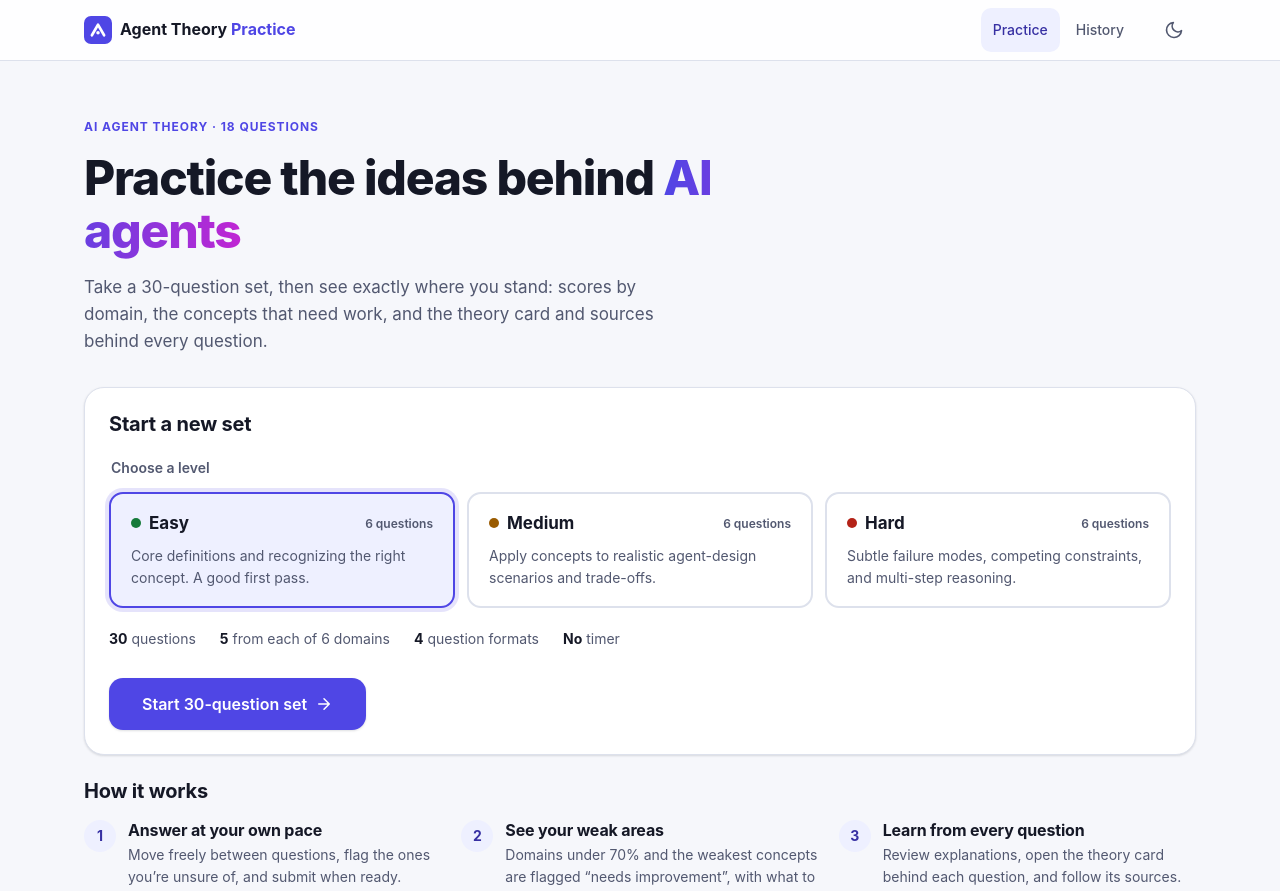
Test: HomePage › toggles and persists the theme
The width and height of the screenshot is (1280, 891).
Click the button named "switch to dark theme" at (1174, 30), box [1152,8,1196,52]
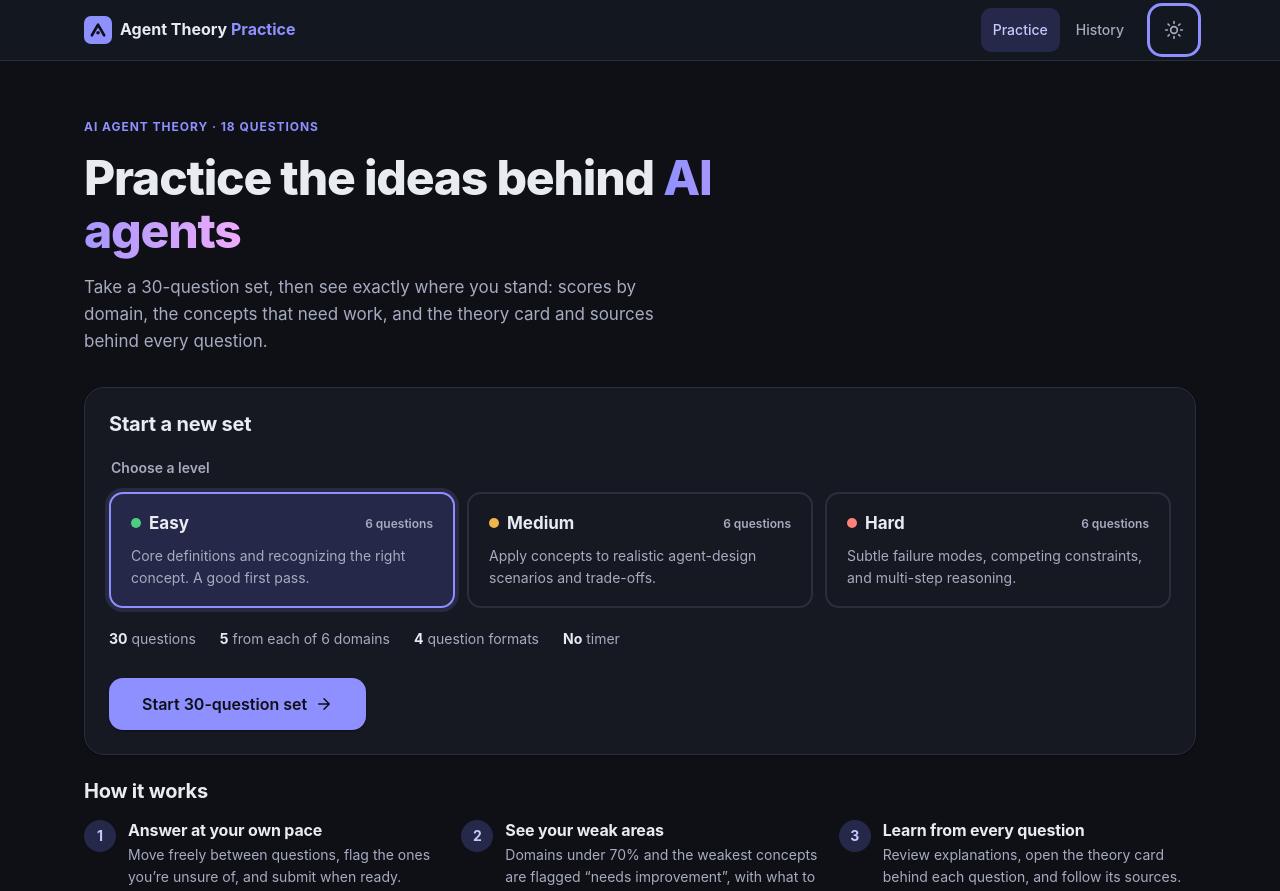
Expected: the button named "switch to light theme" is shown, [1152,8,1196,52]
